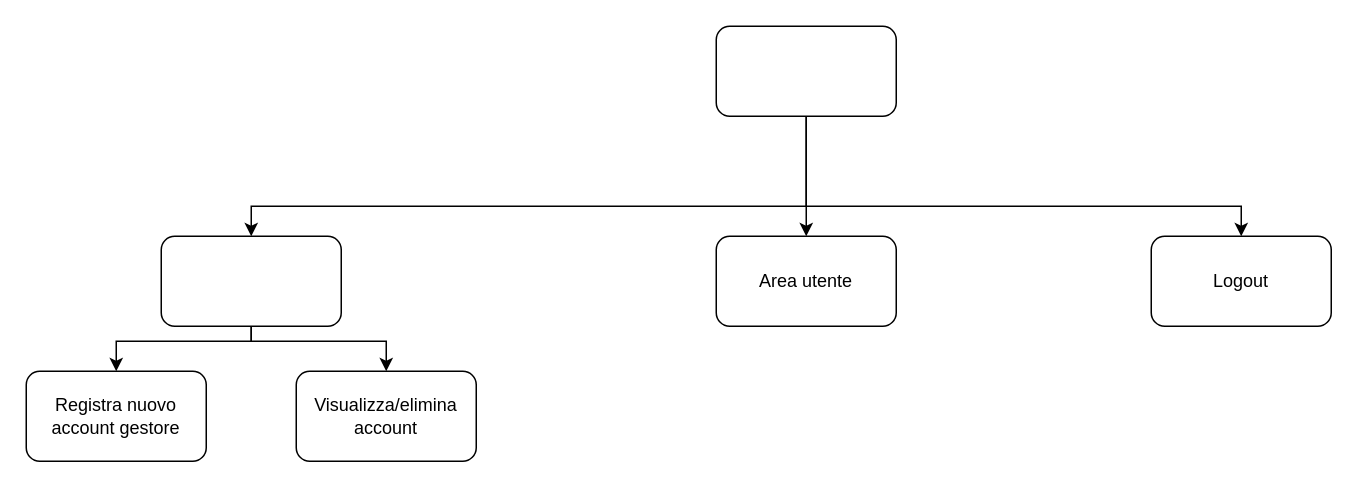
The diagram is 1358 pixels wide and 488 high, and some of its shapes have lost their labels. Each missing label, with the centre of its shape:
Area riservata: the point at 250,280
Homepage: the point at 805,70
